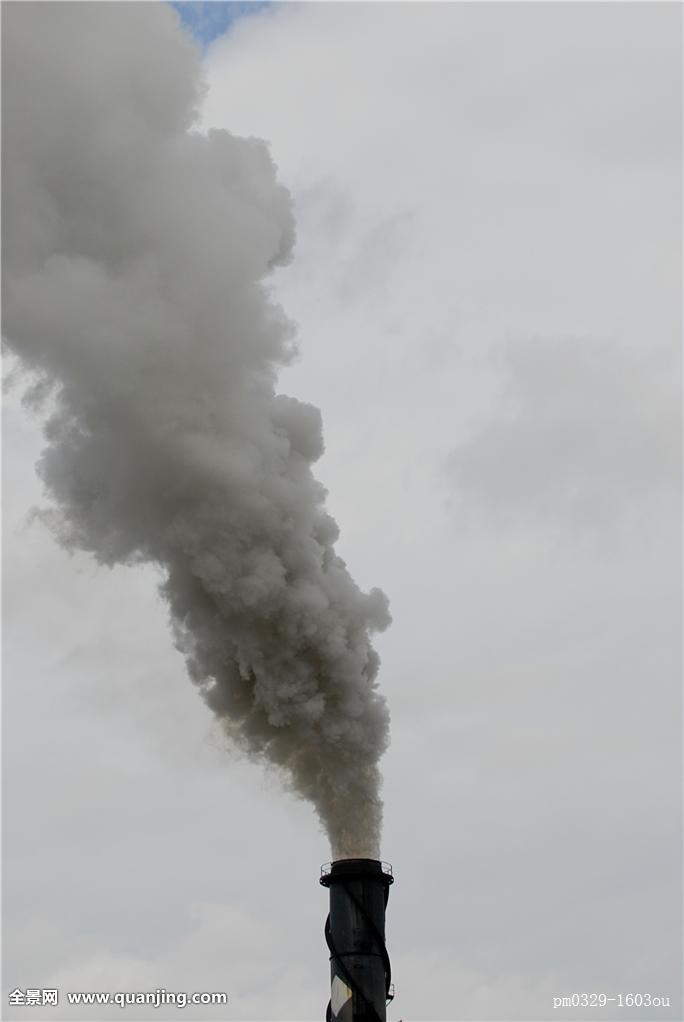dust: (14, 79, 411, 905)
